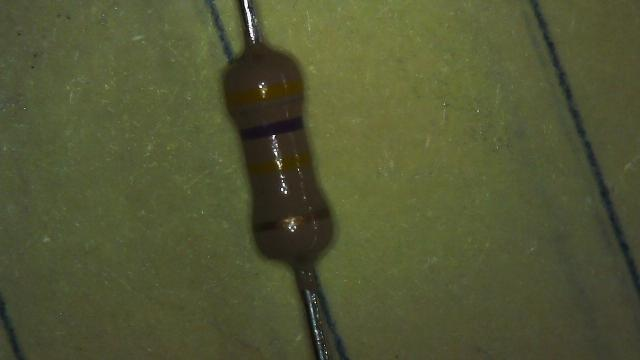gold: (253, 208, 329, 231)
resistor: (202, 28, 361, 278)
violet: (240, 118, 304, 140)
yellow: (226, 80, 302, 104), (248, 151, 312, 174)
